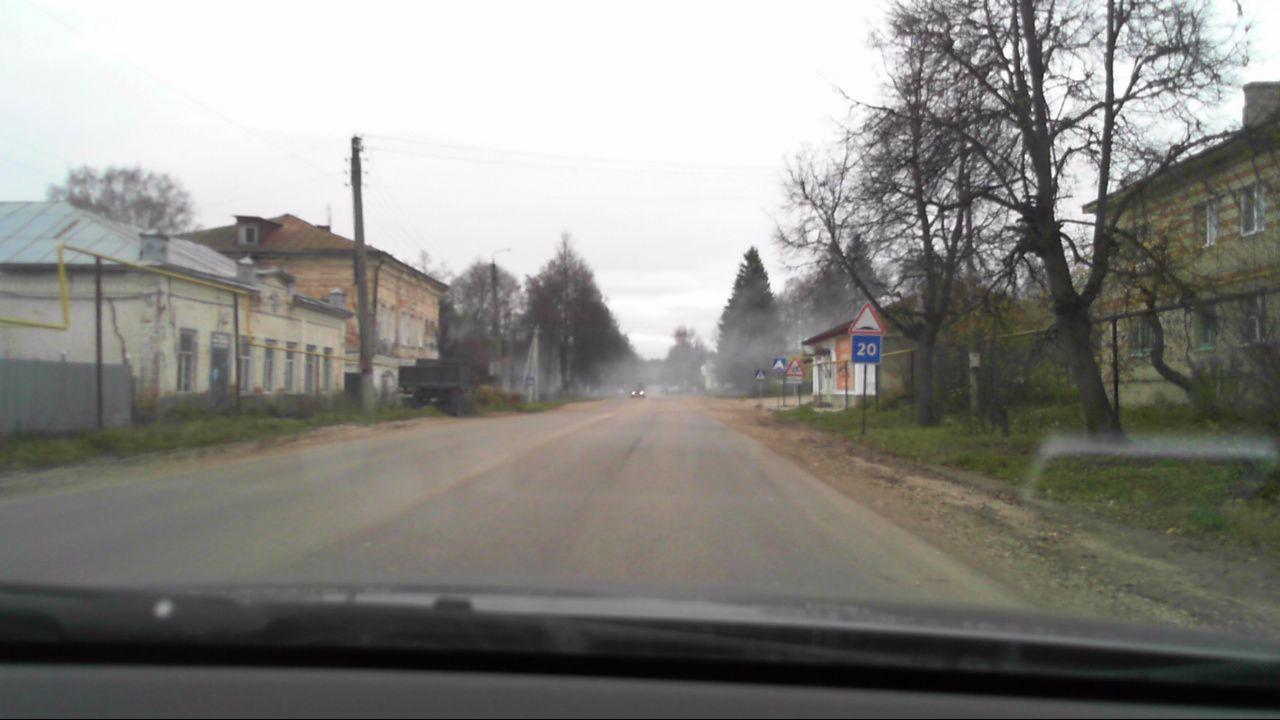1_17: (850, 300, 883, 333)
1_23: (786, 358, 804, 375)
5_19_1: (753, 369, 768, 381)
5_19_2: (525, 375, 536, 385)
5_20: (771, 357, 786, 370)
6_2: (850, 335, 881, 363)
8_2_1: (785, 375, 804, 385)
